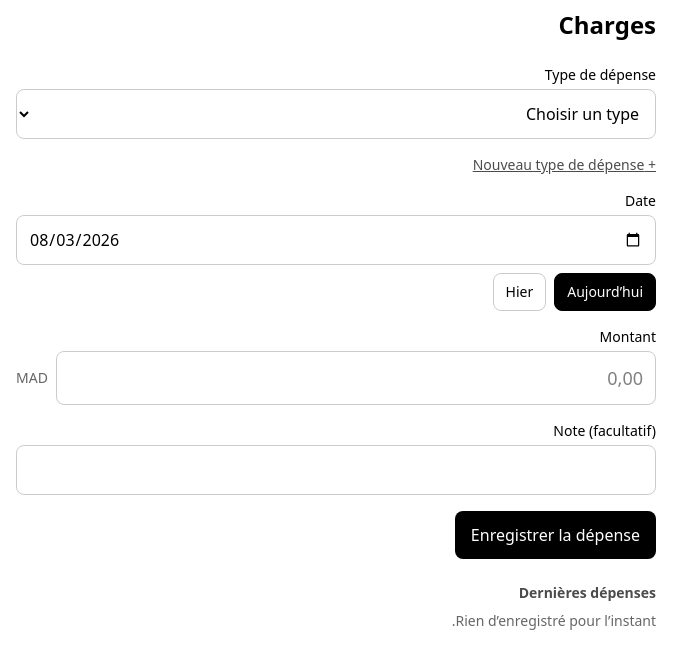
refuses a charge with no category rather than guessing one
Type "1200" into the field labelled "Montant" at (356, 378), box [56,351,656,405]
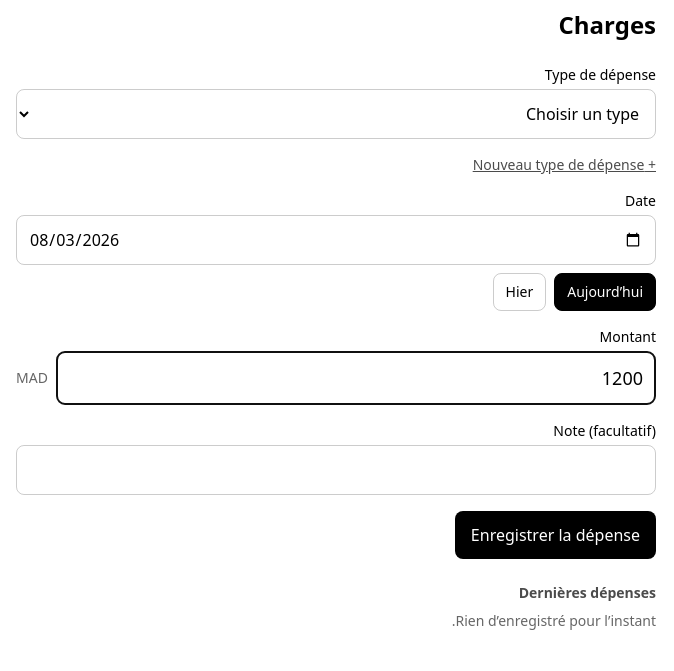
Click the button "Enregistrer la dépense" at (555, 535), box [455,511,656,559]
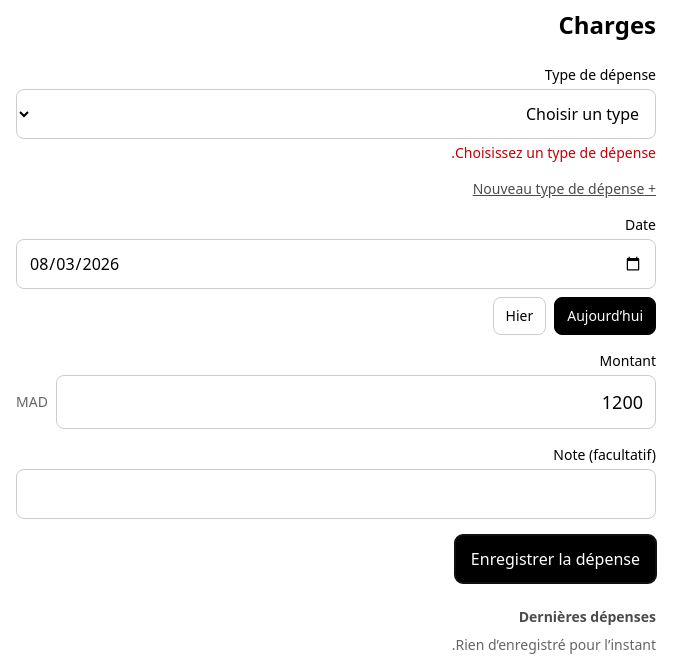
expect the text "Choisissez un type de dépense." is shown: met, box [451,143,656,162]
